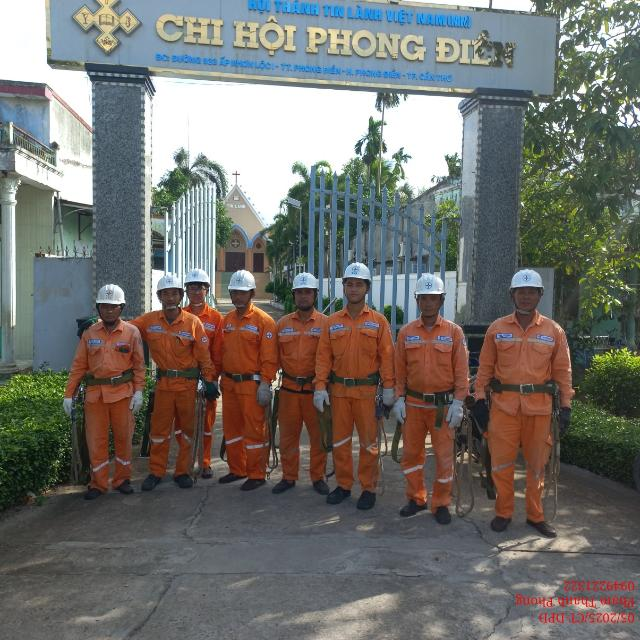gloves: (551, 408, 576, 437), (124, 393, 154, 417), (475, 399, 493, 431), (254, 380, 273, 407), (311, 388, 333, 411), (450, 397, 466, 426), (201, 383, 221, 404), (59, 396, 78, 417), (394, 395, 408, 423), (381, 386, 395, 407), (211, 380, 223, 396)
harness: (486, 375, 563, 402), (402, 377, 461, 410), (82, 361, 140, 388), (326, 362, 384, 388), (151, 359, 206, 382), (278, 363, 323, 386), (214, 365, 270, 383)
helmet: (82, 282, 129, 312), (507, 263, 549, 296), (220, 266, 262, 294), (410, 274, 452, 297), (338, 260, 376, 285), (288, 269, 325, 291), (156, 272, 183, 296), (183, 267, 213, 288)
shoes: (392, 495, 428, 517), (526, 515, 559, 538), (325, 475, 349, 506), (169, 468, 195, 488), (431, 500, 453, 523), (240, 472, 269, 489), (357, 487, 378, 510), (139, 470, 164, 489), (492, 510, 512, 533), (271, 473, 295, 492), (114, 478, 136, 497), (79, 483, 102, 501), (219, 465, 242, 483), (308, 479, 328, 496), (199, 465, 216, 480)
